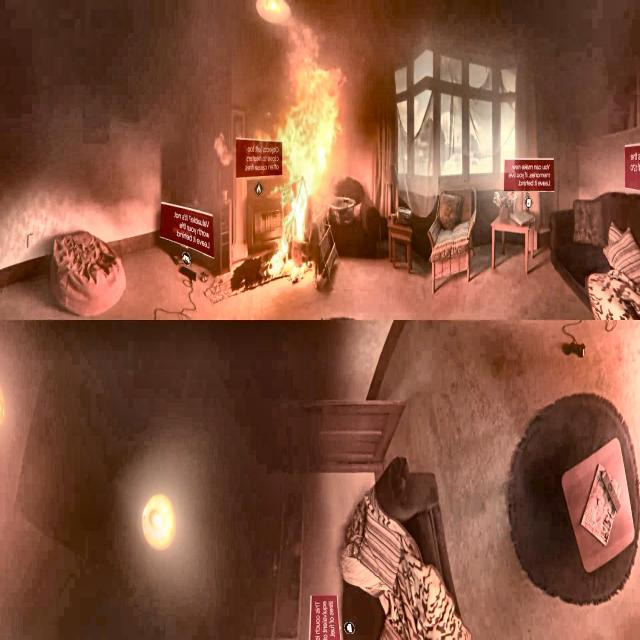fire: (272, 42, 344, 239)
